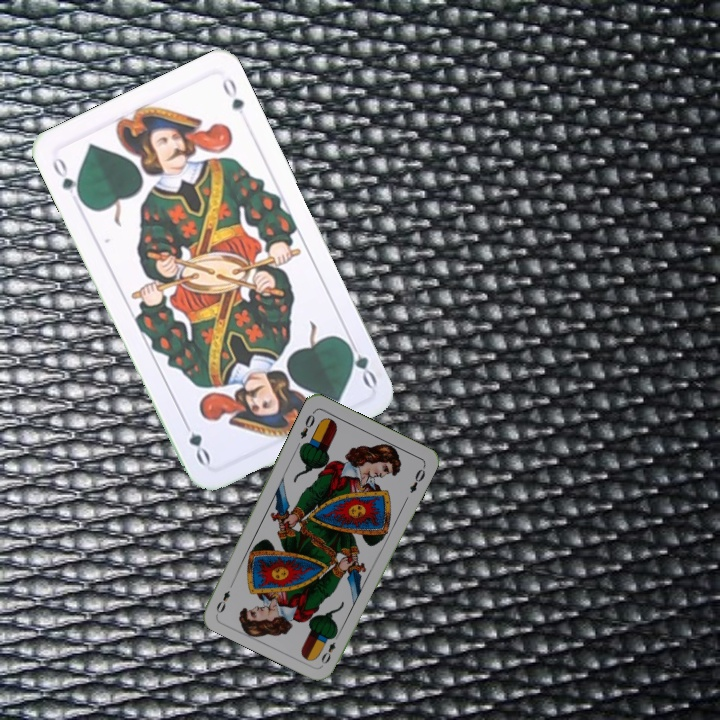EO: (317, 629, 342, 667), (296, 407, 317, 442)
GO: (340, 333, 380, 391), (48, 151, 86, 206)
